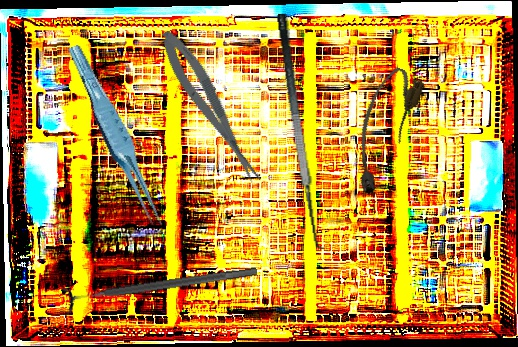Cannula: (338, 62, 428, 199)
Fixation Ring: (60, 255, 260, 318)
Micro Scissor: (153, 24, 267, 190)
Spatula Surgical: (275, 10, 337, 252)
Tissue Forceps: (65, 38, 166, 236)
